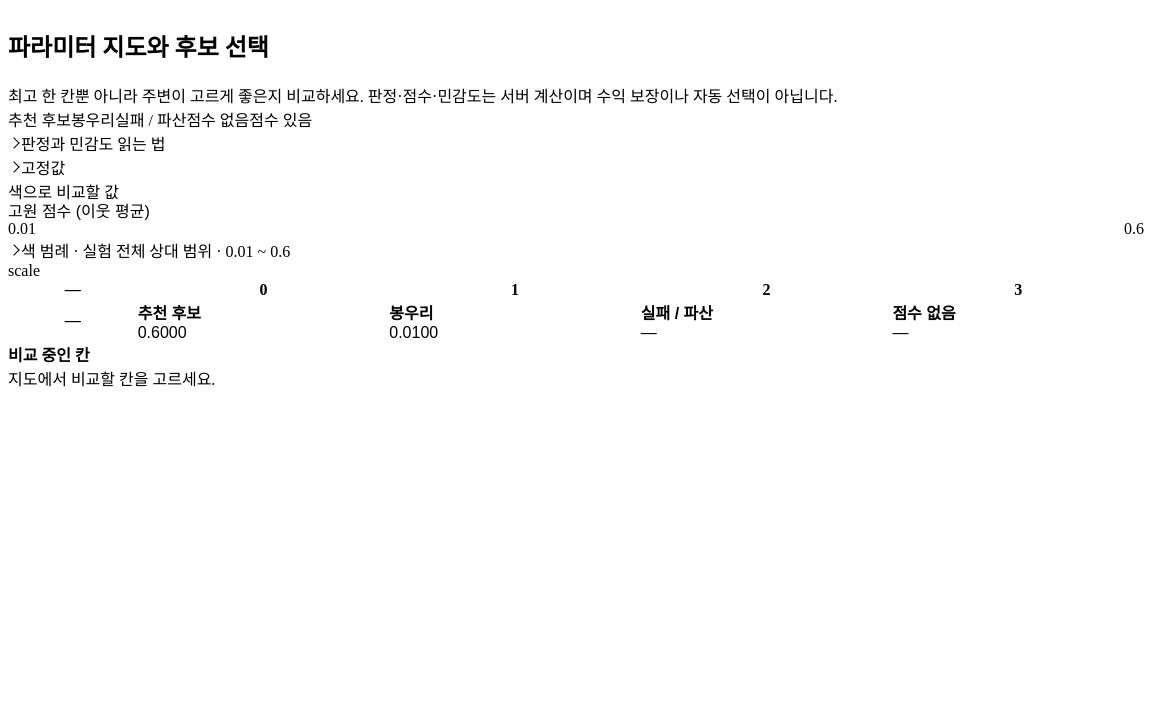
Test: 파라미터 지도와 명시적 후보 선택 › 최고 칸을 다시 고르지 않고 서버의 추천·봉우리·실패·점수 없음과 원수치를 읽는다
Click the button with aria-label "scale 0 · 추천 후보".
click(264, 321)  # box [138,300,389,342]
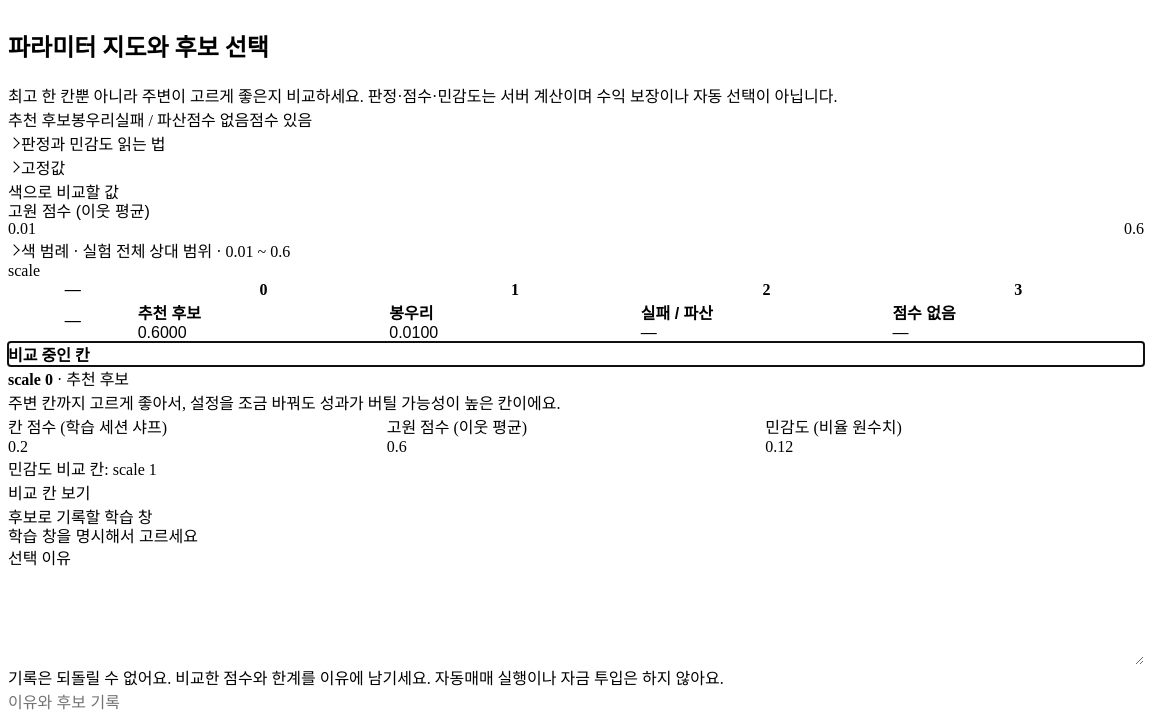
Expected: the element "비교 중인 칸" shows "0.2", [8,438,28,455]
Expected: the element "비교 중인 칸" shows "0.6", [387,438,407,455]
Expected: the element "비교 중인 칸" shows "0.12", [765,438,793,455]
Click the button "비교 칸 보기".
click(49, 492)  # box [8,480,90,504]
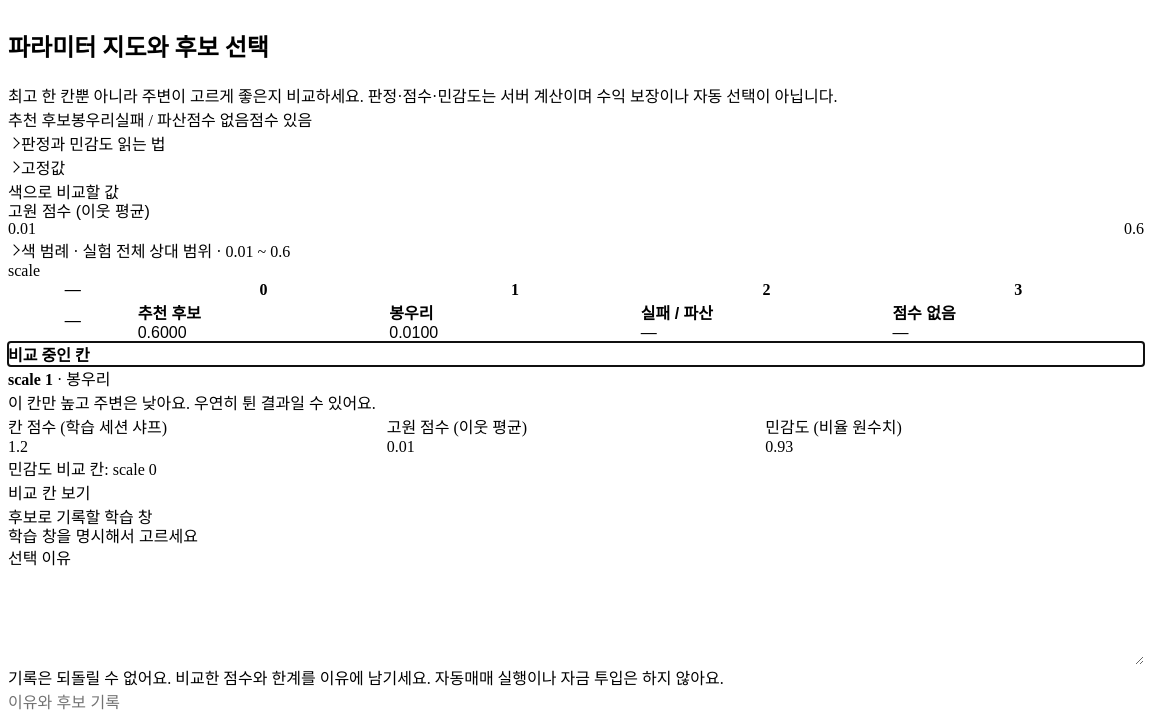
Expected: the element "비교 중인 칸" shows "0.93", [765,438,793,455]
Click the button with aria-label "scale 2 · 실패".
click(767, 321)  # box [641,300,892,342]
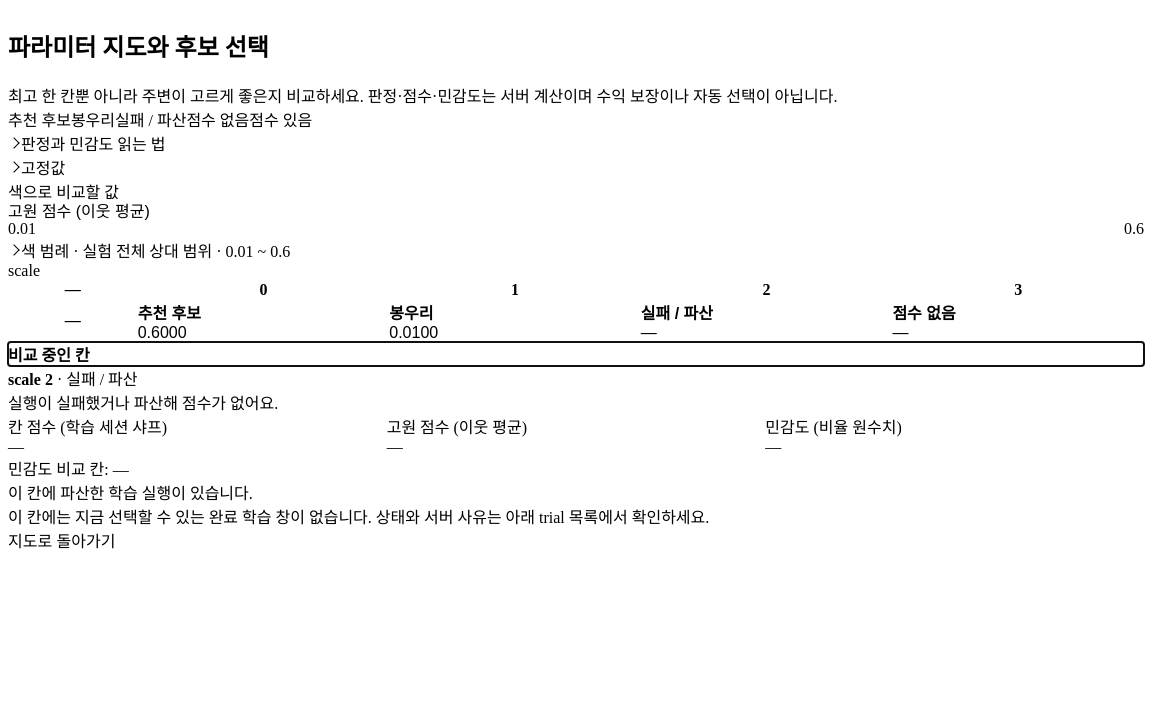
Expected: the button with aria-label "scale 3 · 점수 없음" is enabled, [892,300,1144,342]
Expected: the element "비교 중인 칸" shows "파산한 학습 실행", [8,485,253,502]
Expected: the form is gone
